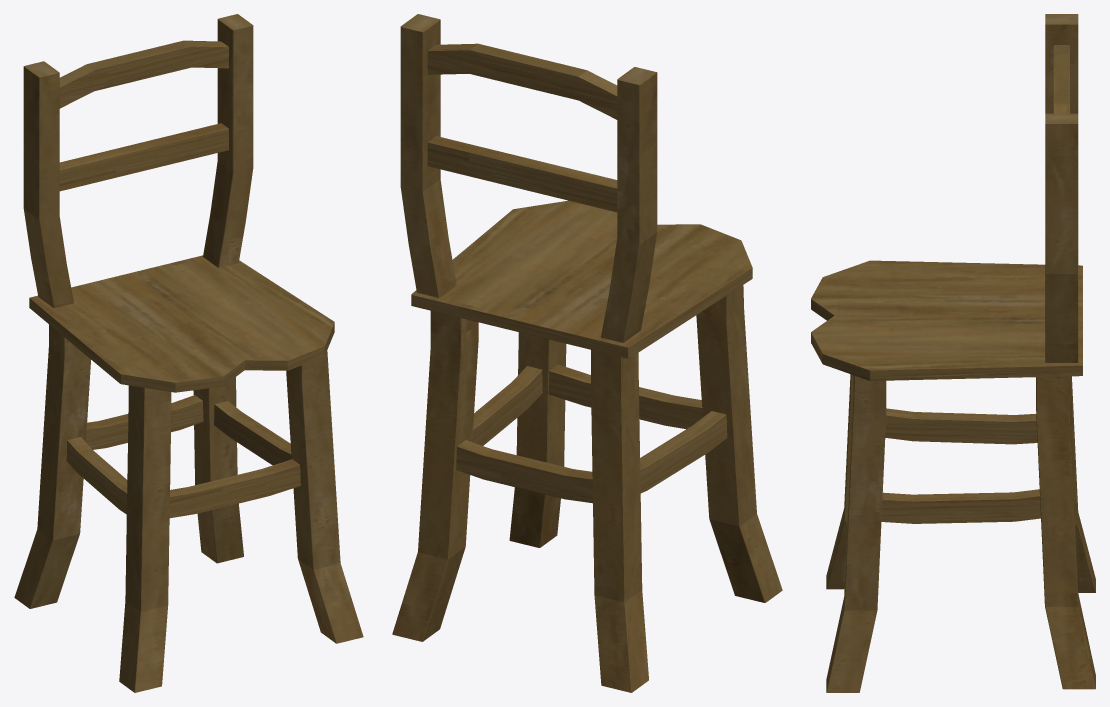
The model's file is Chair1.fbx.
3 views of the same model, side by side, from view 1: azimuth 30°, elevation 25°; view 2: azimuth 150°, elevation 25°; view 3: azimuth 270°, elevation 25° (orthographic). The views are drawn at different scales.
Parts seen in each view (by area): view 1: Chair_1; view 2: Chair_1; view 3: Chair_1.
Boxes of the visible parts, x1,y1,x2,y2 form: Chair_1: [14, 14, 363, 692]; Chair_1: [392, 14, 782, 692]; Chair_1: [811, 14, 1095, 692].
Size of the model in its own units: 118 by 264 by 120.
